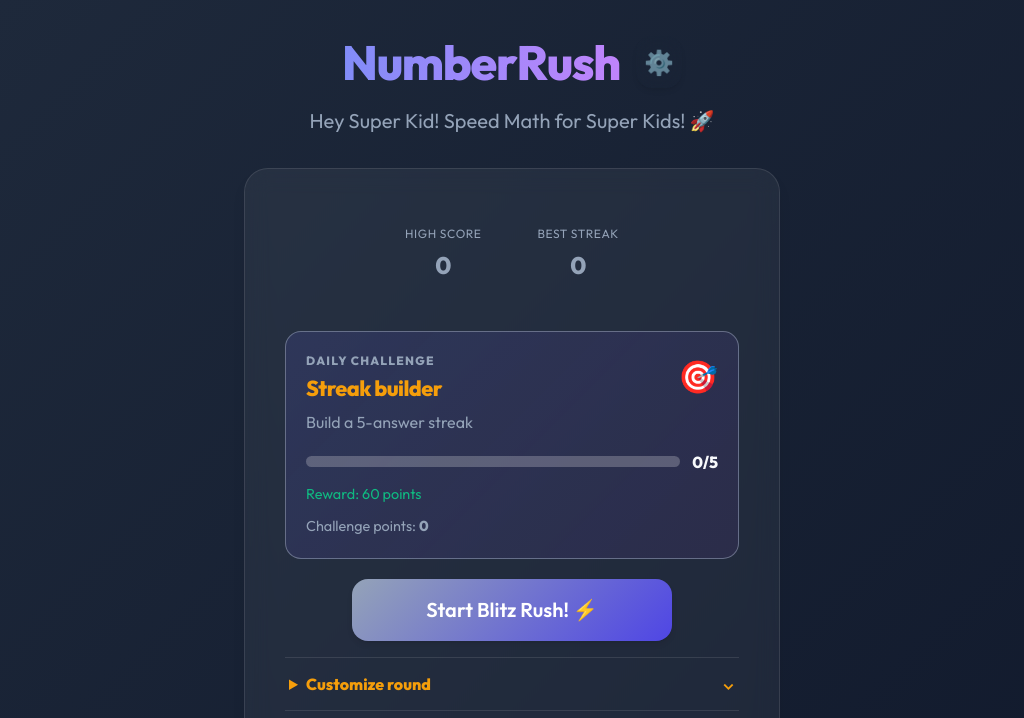
Scenario: App keyboard gameplay › keeps a failed setting warning until that same setting saves
Step 1. Click the button named "Open settings" → (659, 62), box x1=636 y1=36 x2=682 y2=88
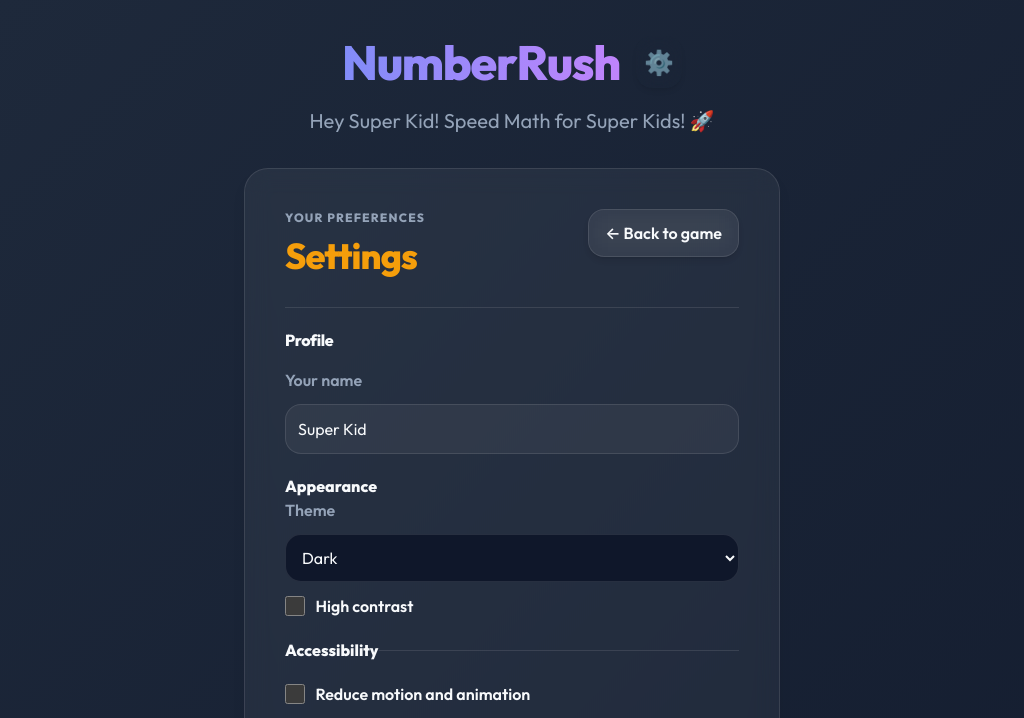
Step 2. Replace the text in the field labelled "Your name" with "Storage Kid" → (512, 429), box x1=285 y1=404 x2=739 y2=454
(page scrolled)
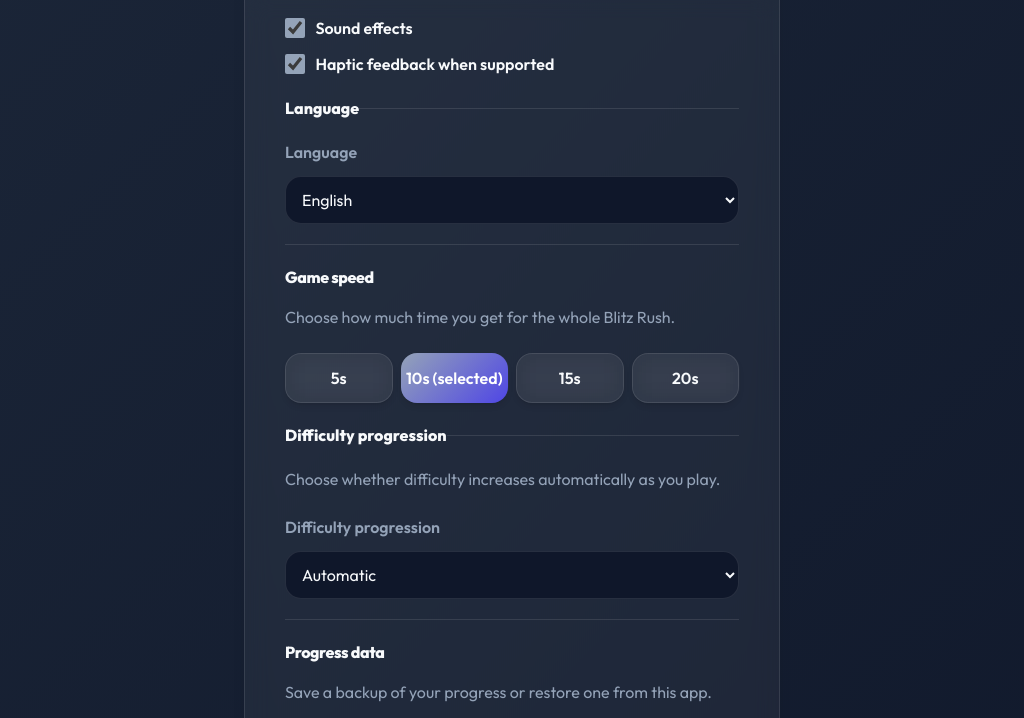
Step 3. Click the button "5s" → (339, 378), box x1=285 y1=353 x2=392 y2=403
(page scrolled)
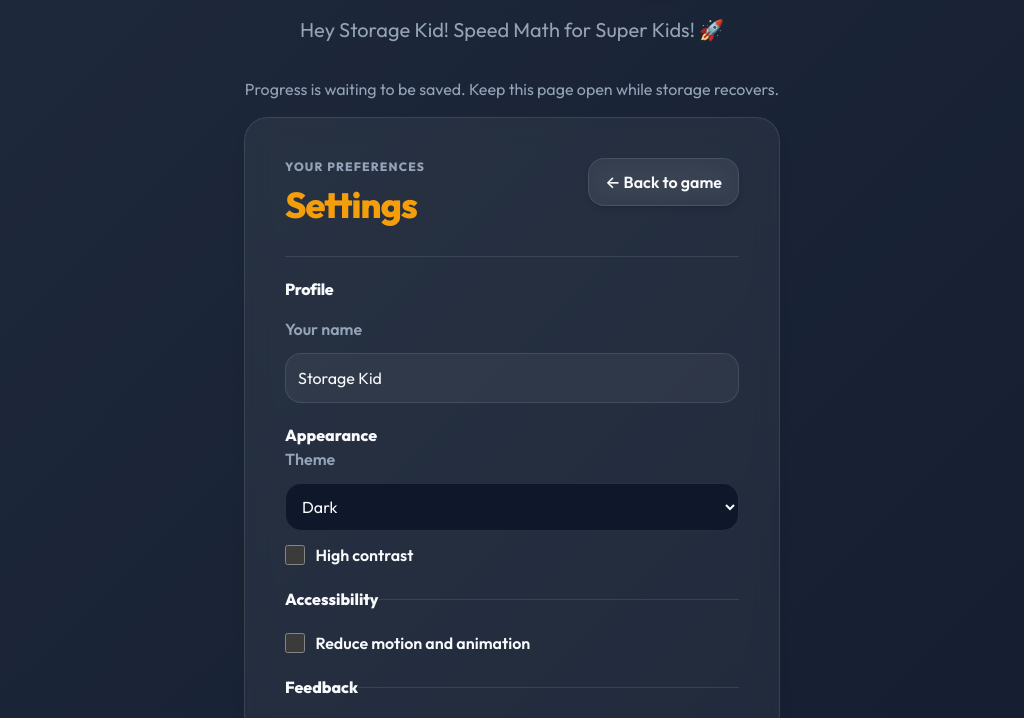
Now the message shows "Progress is waiting to be saved", box x1=245 y1=79 x2=779 y2=99
Step 4. Replace the text in the field labelled "Your name" with "Saved Kid" → (512, 378), box x1=285 y1=353 x2=739 y2=403
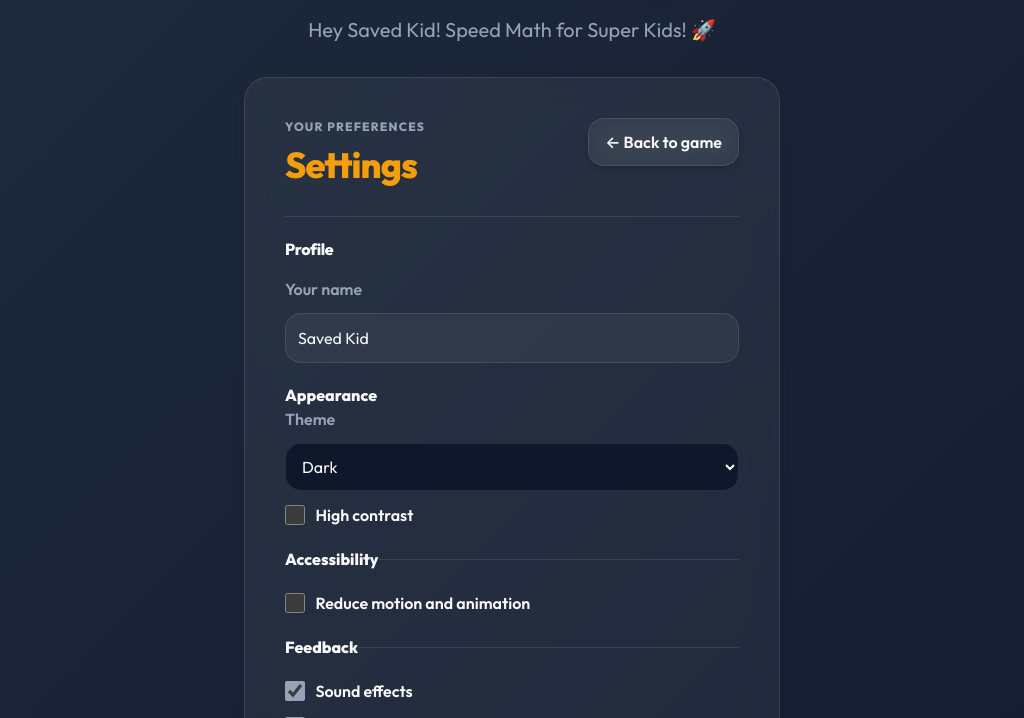
Now the message "Progress is waiting to be saved. Keep this page open while storage recovers." is gone
